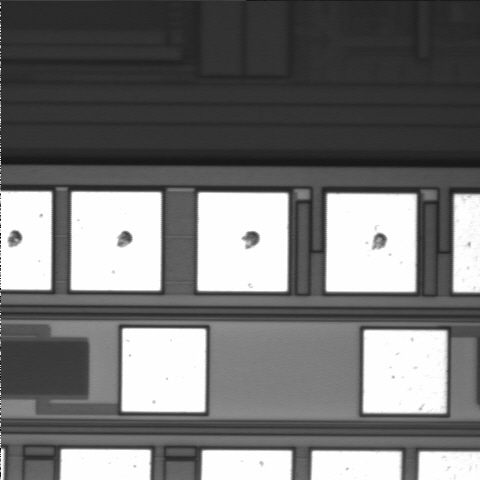pad: (71, 192, 161, 291), (198, 193, 288, 291), (326, 194, 416, 292), (122, 328, 206, 412), (363, 330, 447, 413)
